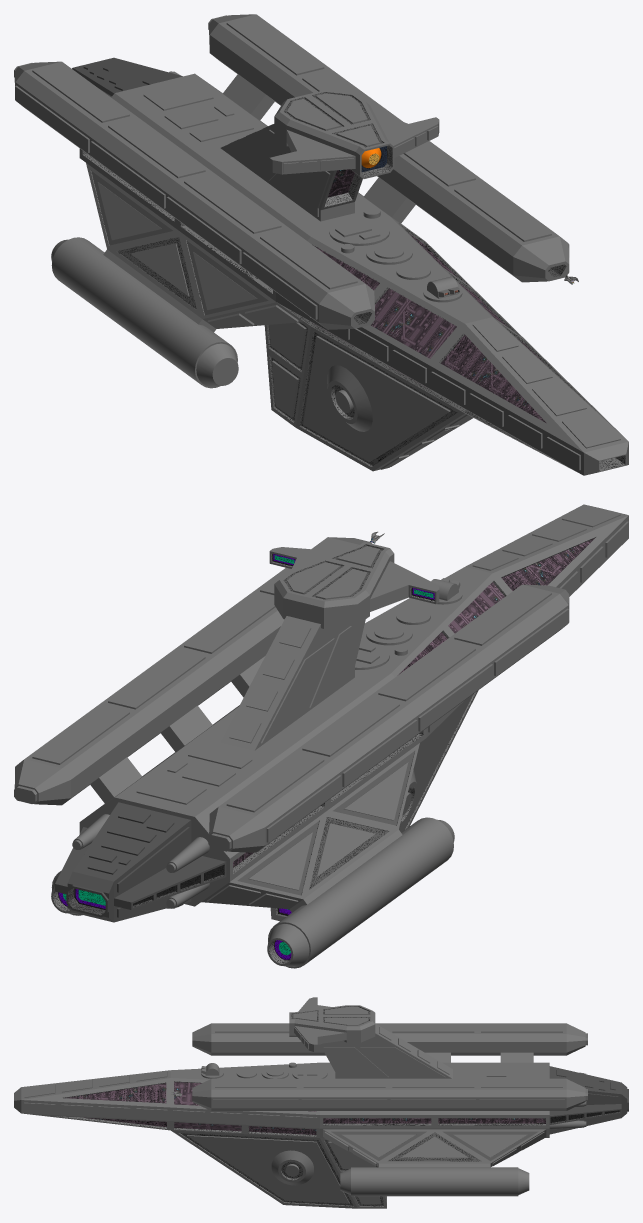
3 renders of one model, top to bottom at view 1: azimuth 30°, elevation 25°; view 2: azimuth 150°, elevation 25°; view 3: azimuth 270°, elevation 25°, orthographic. The views are drawn at different scales.
Parts seen in each view (by area): view 1: SketchUp (×45); view 2: SketchUp (×39); view 3: SketchUp (×48).
Boxes of the visible parts, x1,y1,x2,y2 form: SketchUp (×45): (14, 14, 628, 475); SketchUp (×39): (14, 504, 628, 968); SketchUp (×48): (14, 997, 628, 1208).
Bounding box in the file's own units: 9787 × 34382 × 11501.
14 materials, 1 textured.
